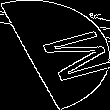M_W: (10, 24, 100, 86)
